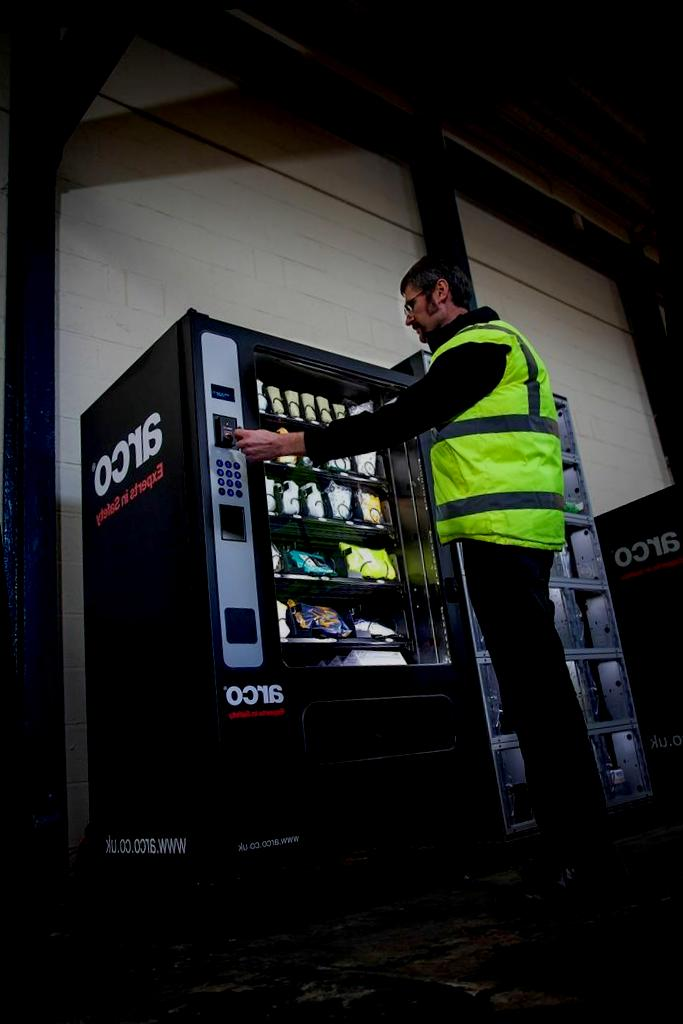person: (384, 230, 630, 928)
